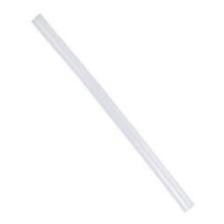drinking_straw: (26, 9, 198, 216)
